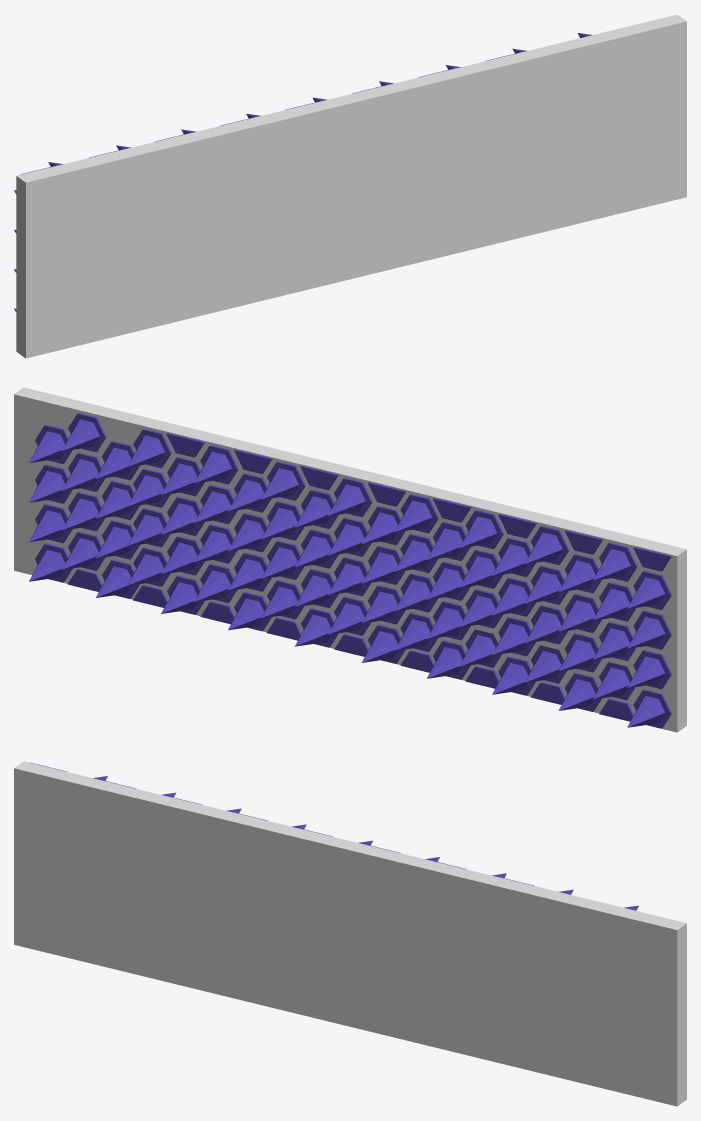
File: spike2.fbx
3 renders of one model, top to bottom at view 1: azimuth 30°, elevation 25°; view 2: azimuth 150°, elevation 25°; view 3: azimuth 330°, elevation 25°, orthographic.
Visible parts, largest first — view 1: Cube.326; view 2: Cube.326; view 3: Cube.326.
Part boxes in pixels (x1,y1,x2,y2): Cube.326: [14, 14, 686, 358]; Cube.326: [14, 387, 686, 732]; Cube.326: [14, 761, 686, 1106].
Bounding box in the file's own units: 3941 × 1001 × 368.
